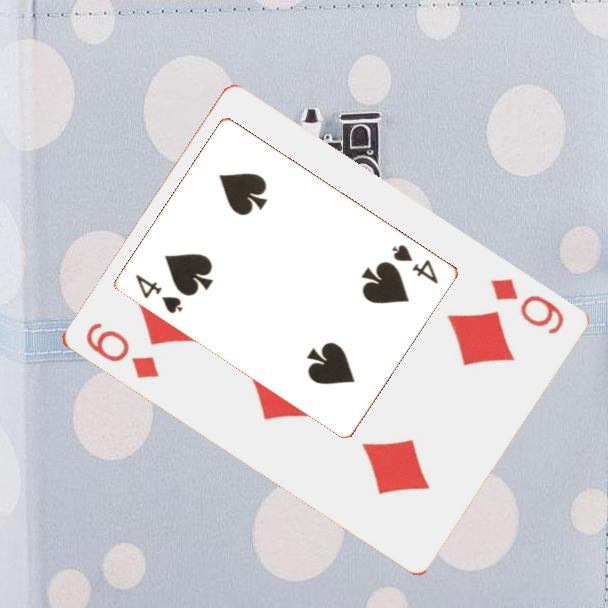d06: (486, 274, 566, 338), (81, 319, 162, 382)
s04: (388, 241, 442, 287), (132, 271, 187, 316)
